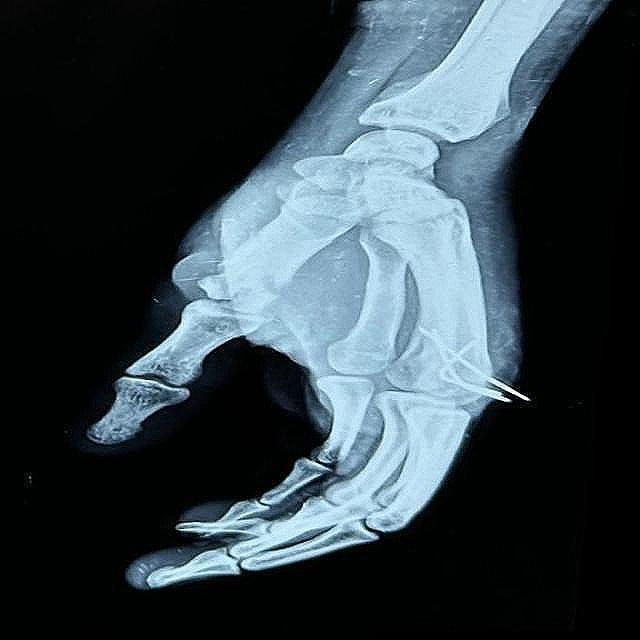bone: (216, 253, 312, 304)
